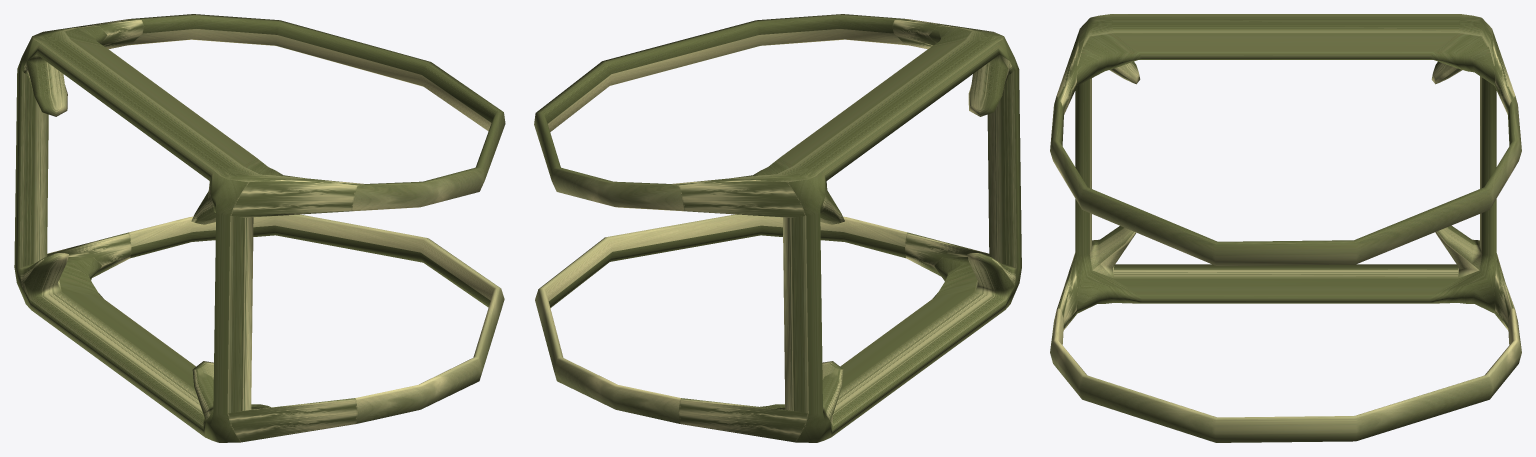
The model's file is goldenrectanglering.fbx.
3 views of the same model, side by side, from view 1: azimuth 30°, elevation 25°; view 2: azimuth 150°, elevation 25°; view 3: azimuth 270°, elevation 25° (orthographic).
Parts seen in each view (by area): view 1: Goldenring; view 2: Goldenring; view 3: Goldenring.
Part boxes in pixels (x1,y1,x2,y2): Goldenring: (14, 14, 505, 442); Goldenring: (534, 14, 1021, 442); Goldenring: (1050, 14, 1521, 442).
Size of the model in its own units: 0.7796 by 0.5579 by 0.8914.
